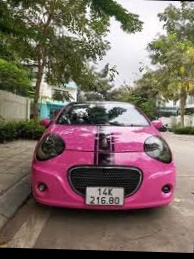Bien-so: (86, 186, 125, 205)
